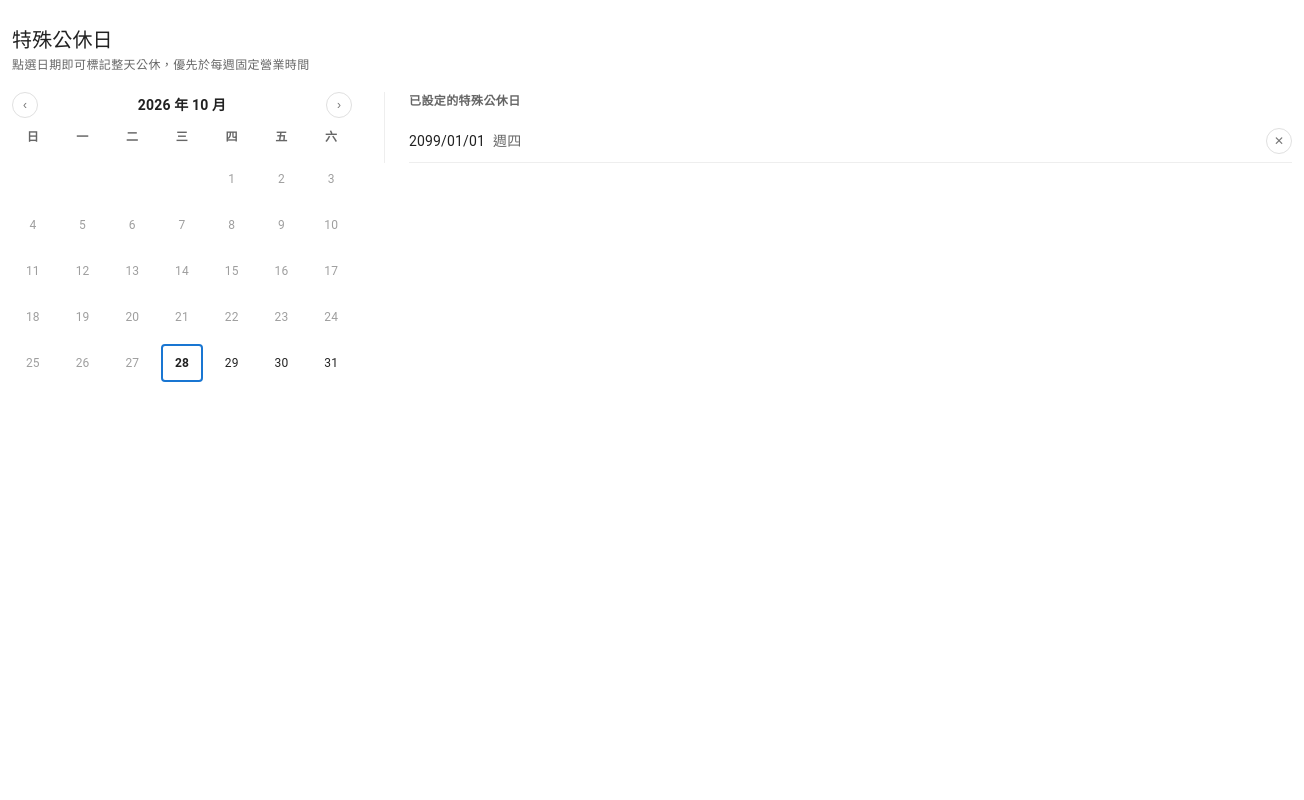
Scenario: ClosedDatesSection › 移除失敗時顯示錯誤 Toast，清單維持不變
Expected: the text "2099/01/01" is shown, [409,133,485,149]
Click the button named "移除公休日": (1279, 141) [1266,128,1292,154]
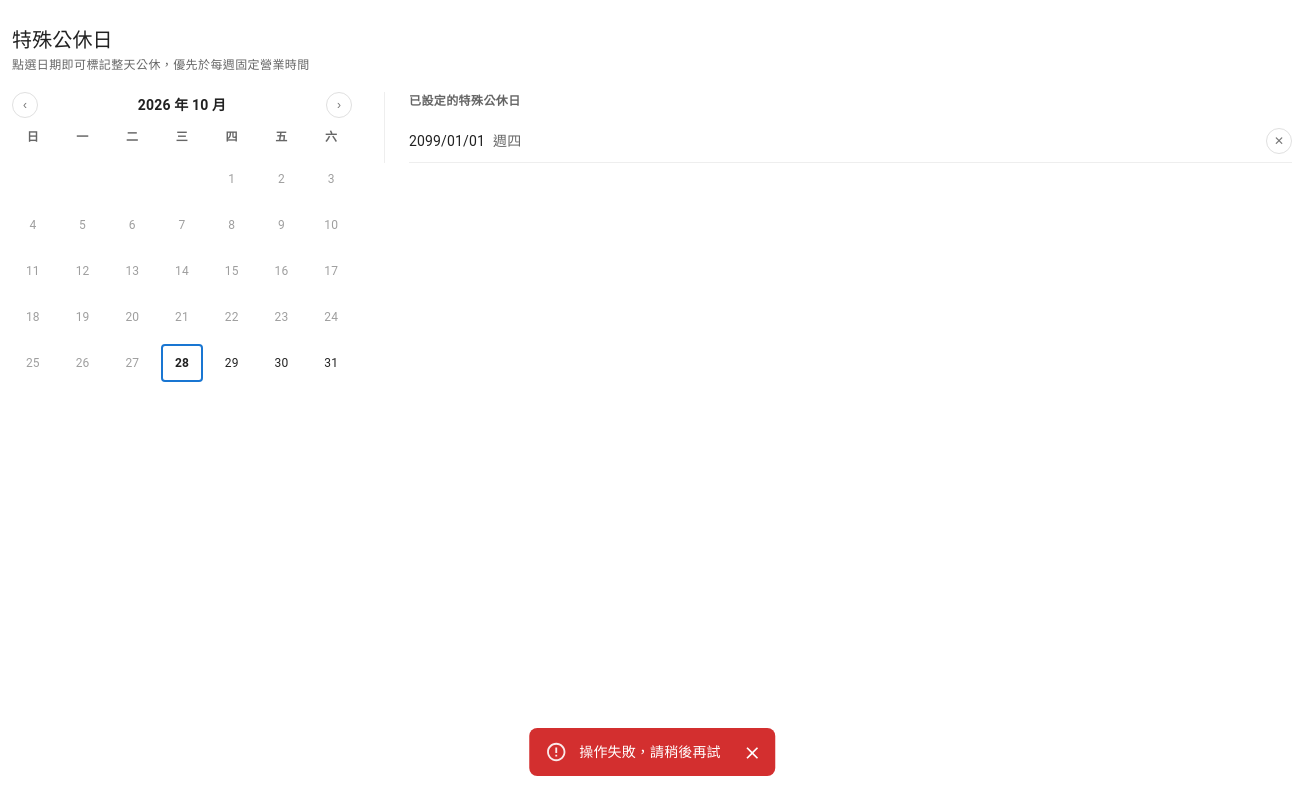
Expected: the text "2099/01/01" is shown, [409,133,485,149]
Expected: the text "操作失敗，請稍後再試" is shown, [579,744,721,760]
